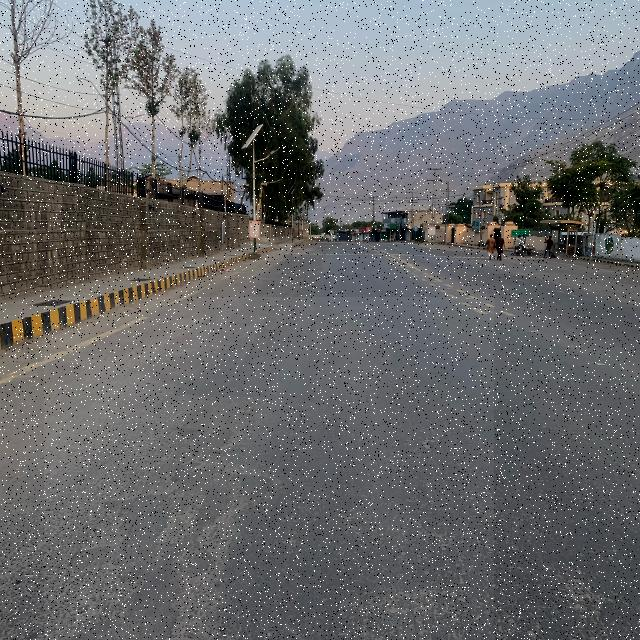straight: (44, 297, 494, 640)
